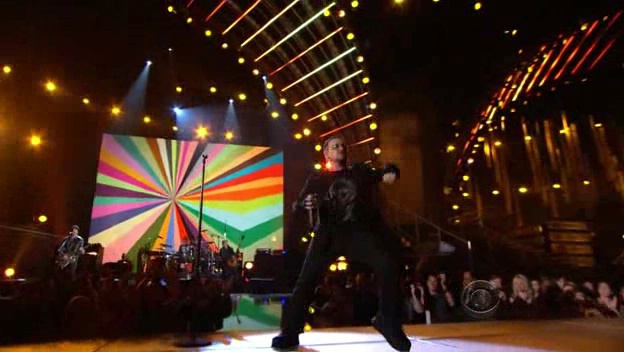person: (311, 139, 376, 256), (308, 139, 373, 256), (314, 139, 379, 256), (311, 136, 376, 253), (311, 142, 376, 259)
target_negative: (167, 61, 554, 330), (55, 67, 541, 184), (102, 107, 227, 192), (585, 108, 601, 301), (283, 36, 624, 41), (429, 93, 433, 211)
